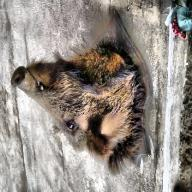boar: (11, 32, 148, 176)
